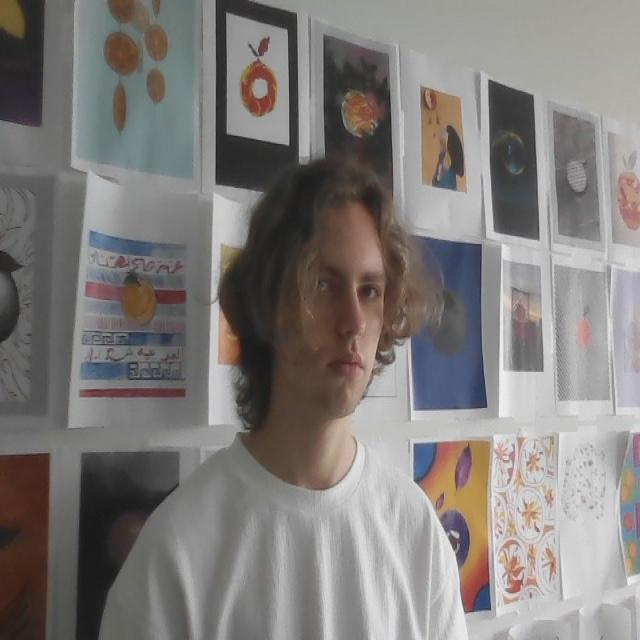opened_eye: (304, 273, 341, 303), (357, 279, 383, 308)
